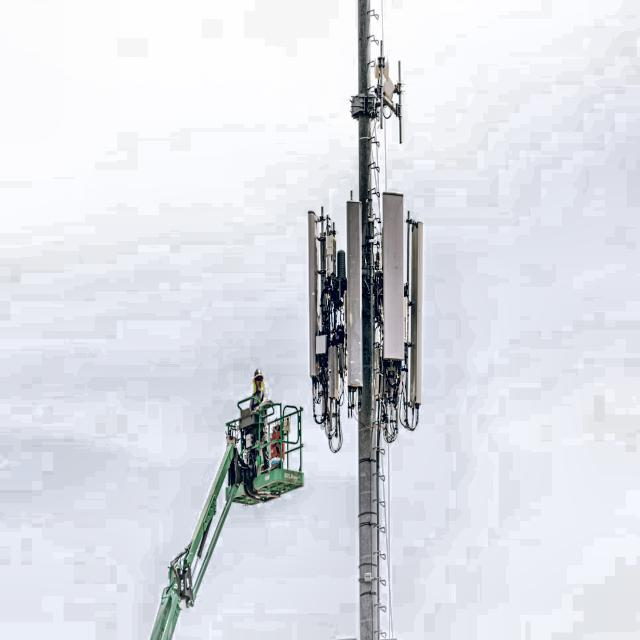antenna: (382, 192, 404, 359), (346, 201, 362, 387), (407, 218, 422, 405), (308, 211, 317, 376)
